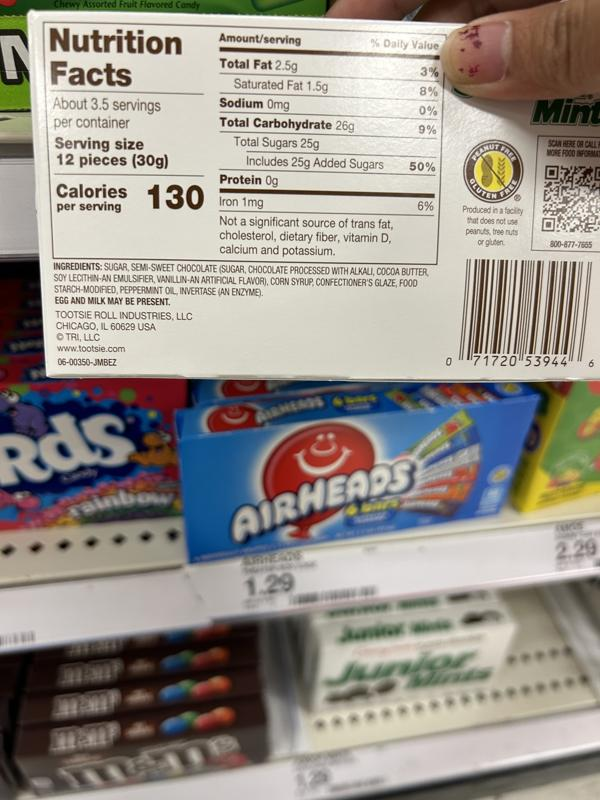ingredients: (52, 260, 430, 298)
